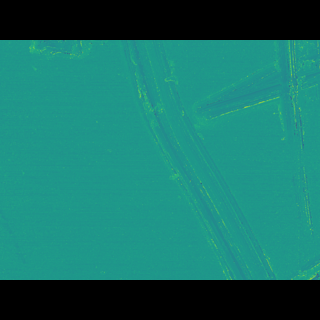Loch: (117, 69, 276, 249), (189, 69, 319, 137), (274, 69, 317, 218), (20, 69, 107, 86)
